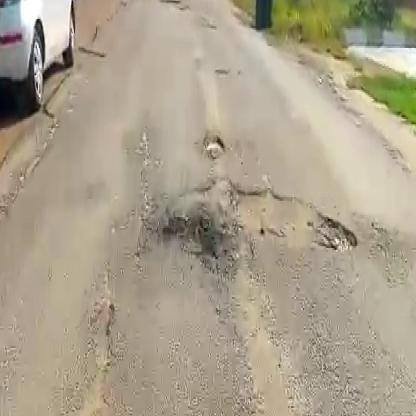pothole: (176, 180, 362, 257), (202, 133, 231, 157)
